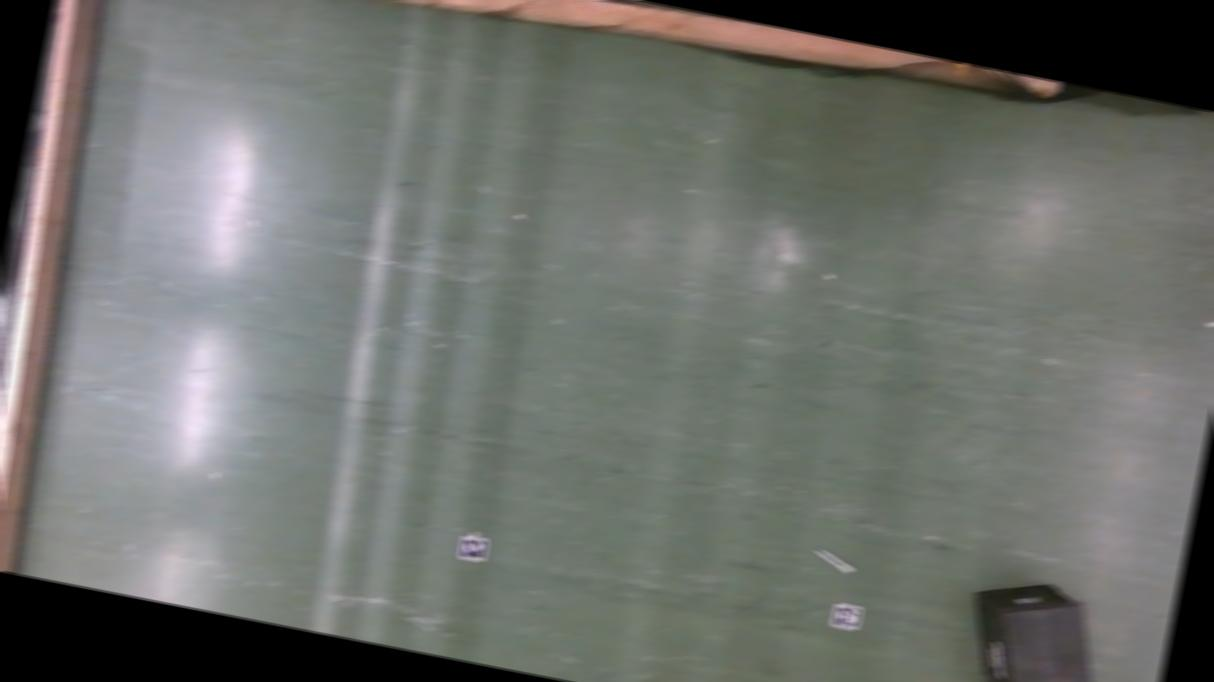probes: (813, 548, 854, 573)
rako: (950, 568, 1120, 682)
